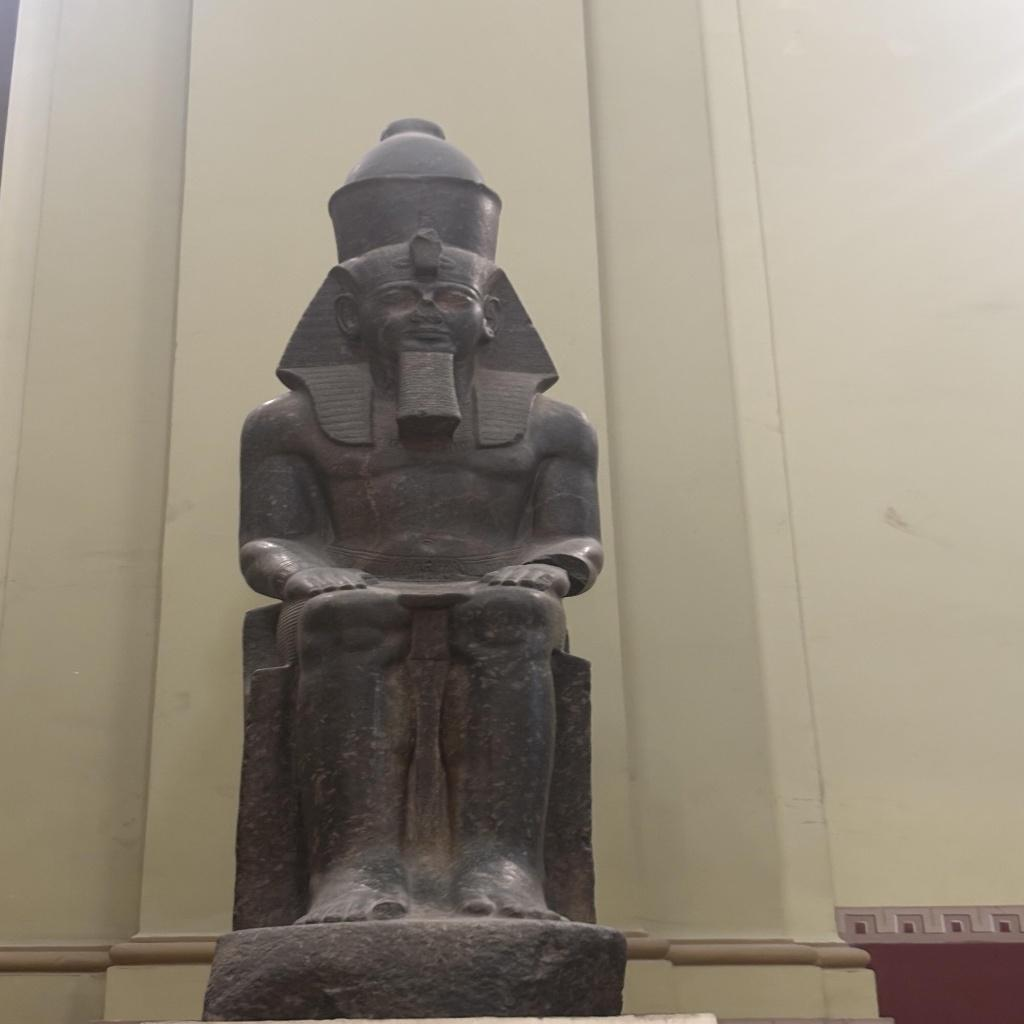Grey Granite of Ramesses II: (230, 110, 602, 934)
